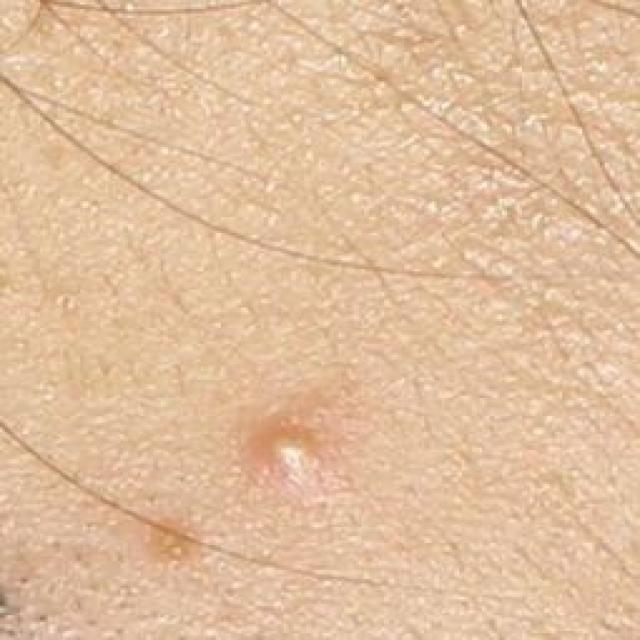blackheads: (248, 411, 329, 490)
